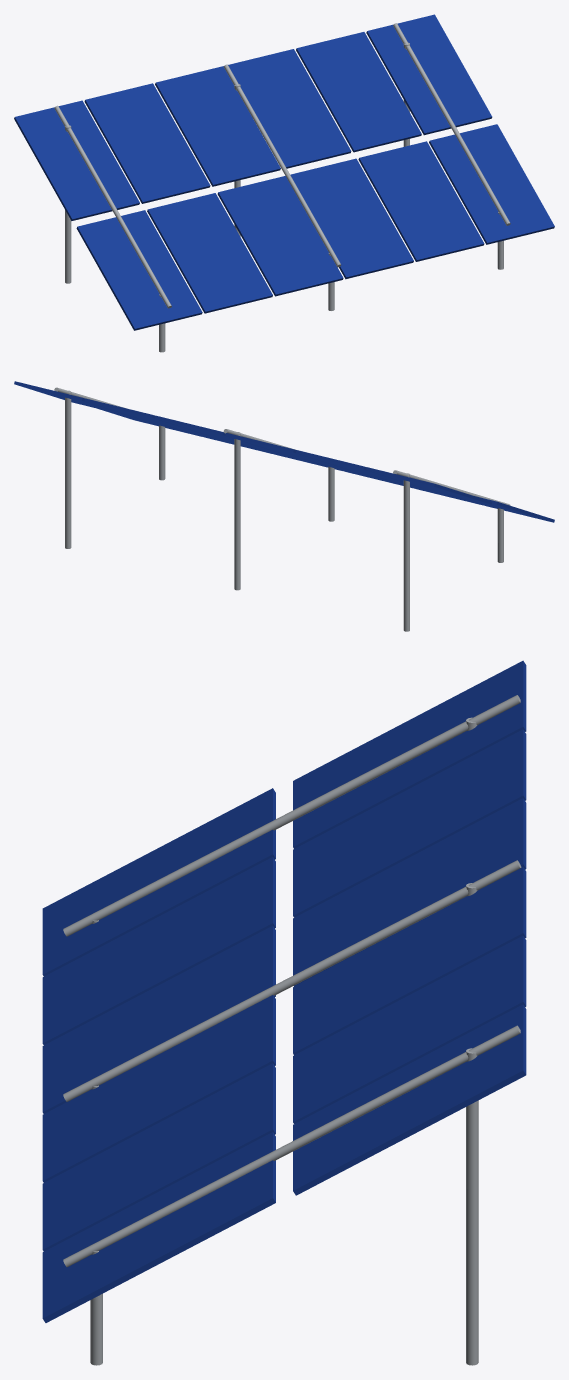
The model's file is energy.plant.solar_ground.glb.
3 views of the same model, one above another, from view 1: azimuth 30°, elevation 25°; view 2: azimuth 150°, elevation 25°; view 3: azimuth 270°, elevation 25° (orthographic). The views are drawn at different scales.
Parts seen in each view (by area): view 1: main__plastic_blue, main__steel_galvanised; view 2: main__steel_galvanised, main__plastic_blue; view 3: main__plastic_blue, main__steel_galvanised.
Boxes of the visible parts, <box> form: main__plastic_blue: <box>14,14,554,330</box>; main__steel_galvanised: <box>54,23,510,352</box>; main__steel_galvanised: <box>54,387,510,631</box>; main__plastic_blue: <box>14,381,554,522</box>; main__plastic_blue: <box>42,660,526,1322</box>; main__steel_galvanised: <box>63,695,521,1365</box>.
Bounding box in the file's own units: 6.2 × 2.38 × 3.09.
